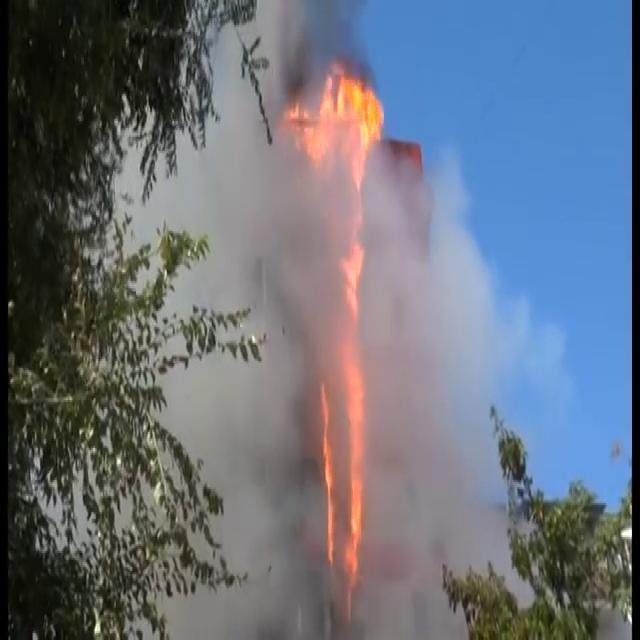Fire: (318, 276, 372, 592), (296, 51, 386, 175)
Smoke: (188, 26, 502, 626)
